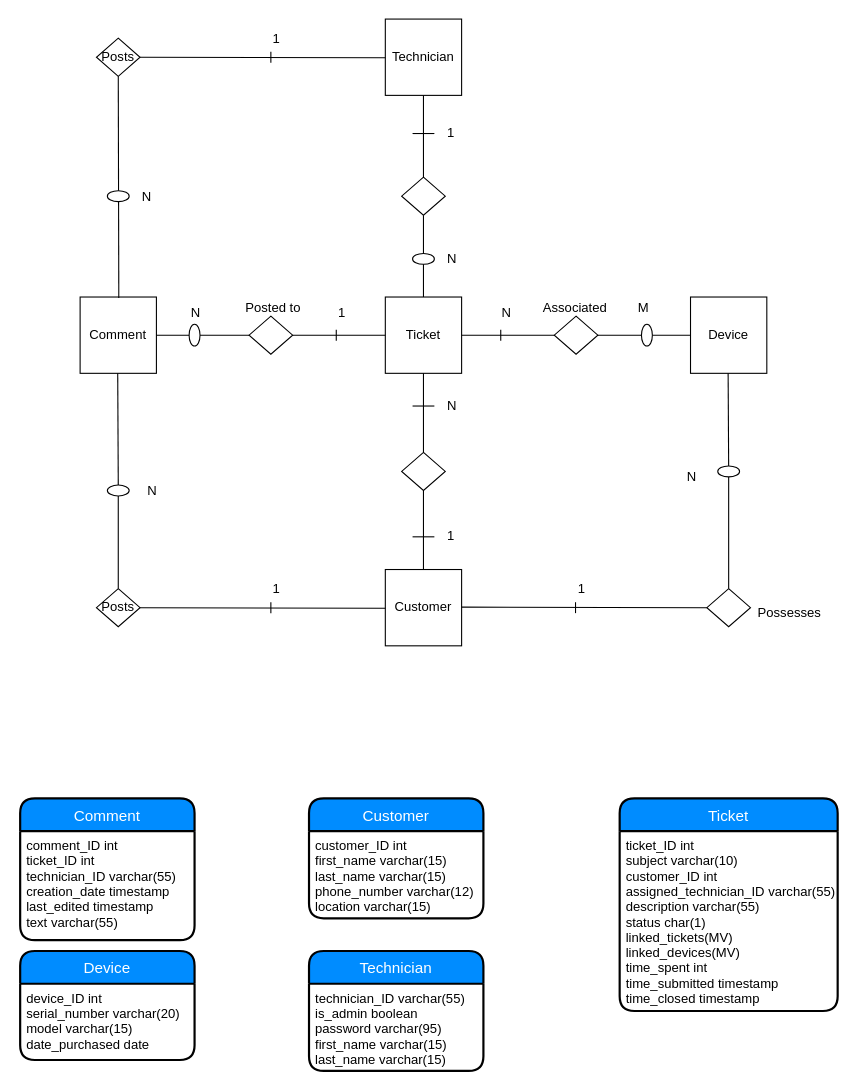
Image size: 857x1091. Some labels were removed from this diagram. Each missing label, with the centre of its shape:
"Assigned" belongs at point 423,195.
"Has" belongs at point 423,471.
